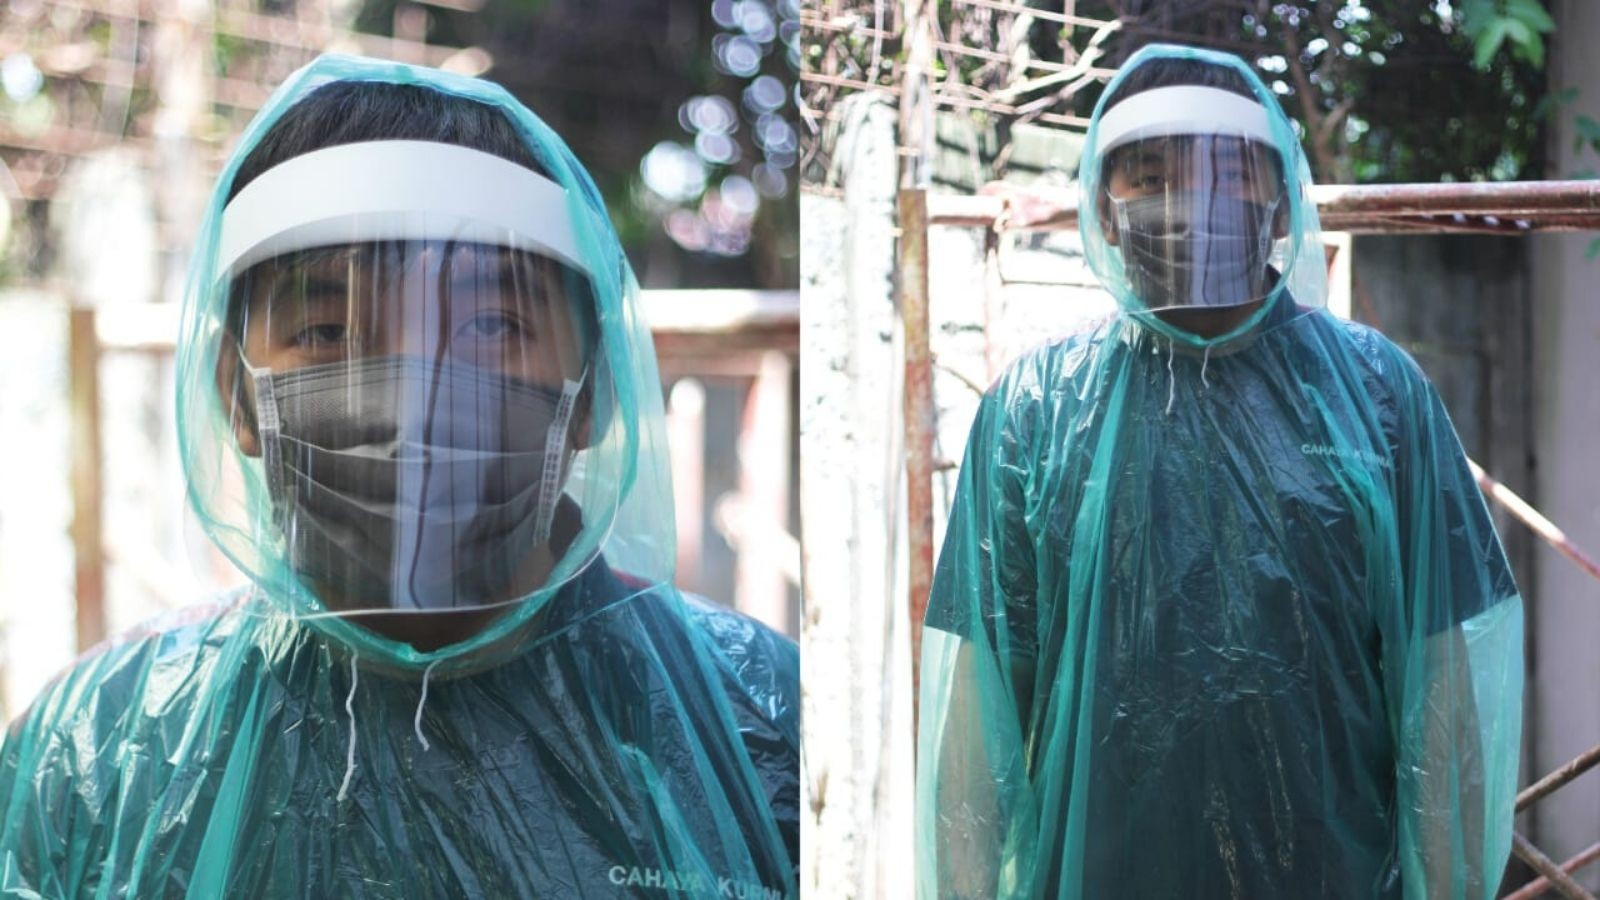Coverall: (906, 288, 1527, 900)
Face_Shield: (177, 134, 662, 653), (1086, 88, 1308, 339)
with_mask: (249, 303, 574, 586), (1113, 155, 1268, 307)
